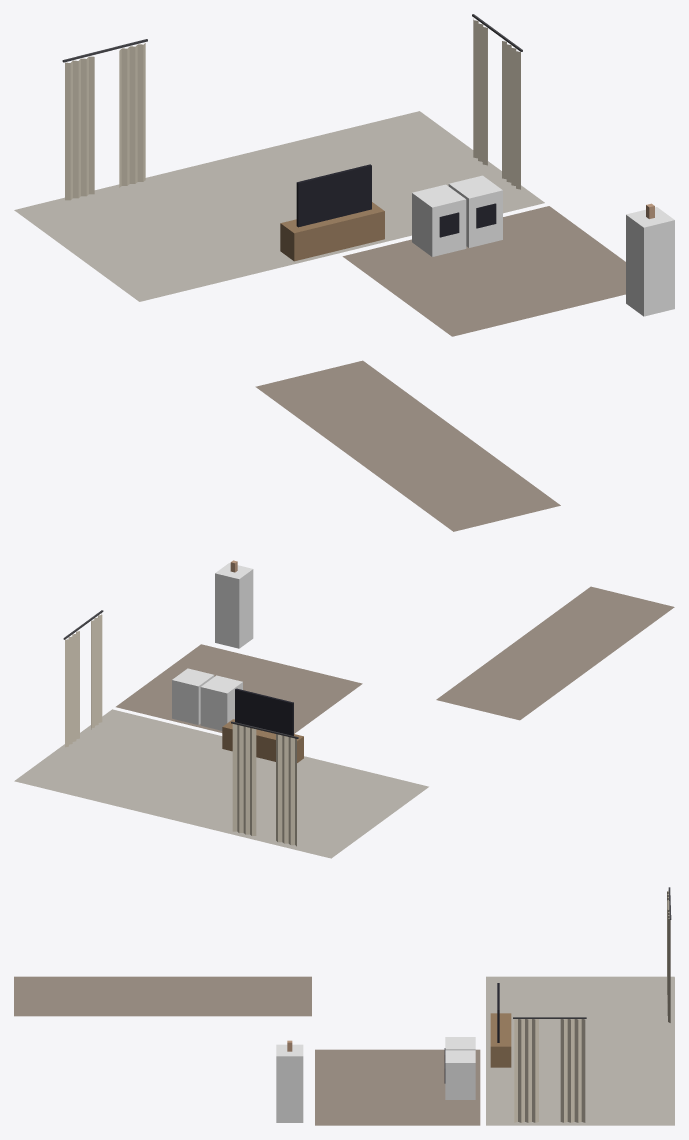
File: fine-s0.glb
The picture shows the model from 3 angles, top to bottom: view 1: azimuth 30°, elevation 25°; view 2: azimuth 150°, elevation 25°; view 3: azimuth 270°, elevation 25°; orthographic projection. The views are drawn at different scales.
Visible parts, largest first — view 1: soft-s0, tv-console.000, water-heater.000, washer.000, washer.001; view 2: soft-s0, tv-console.000, water-heater.000, washer.000, washer.001; view 3: soft-s0, water-heater.000, washer.001, tv-console.000, washer.000.
Part boxes in pixels (x1=…): soft-s0: x1=14, y1=14, x2=625, y2=531; tv-console.000: x1=280, y1=164, x2=384, y2=261; water-heater.000: x1=626, y1=203, x2=674, y2=316; washer.000: x1=412, y1=184, x2=466, y2=256; washer.001: x1=448, y1=175, x2=502, y2=247; soft-s0: x1=14, y1=586, x2=674, y2=858; tv-console.000: x1=222, y1=688, x2=303, y2=762; water-heater.000: x1=215, y1=560, x2=253, y2=648; washer.000: x1=200, y1=675, x2=242, y2=730; washer.001: x1=172, y1=668, x2=214, y2=724; soft-s0: x1=14, y1=887, x2=674, y2=1125; water-heater.000: x1=276, y1=1040, x2=303, y2=1122; washer.001: x1=444, y1=1050, x2=475, y2=1099; tv-console.000: x1=490, y1=983, x2=511, y2=1067; washer.000: x1=444, y1=1037, x2=475, y2=1061.
Size of the model in its own units: 7.16 by 2.4 by 13.44.
